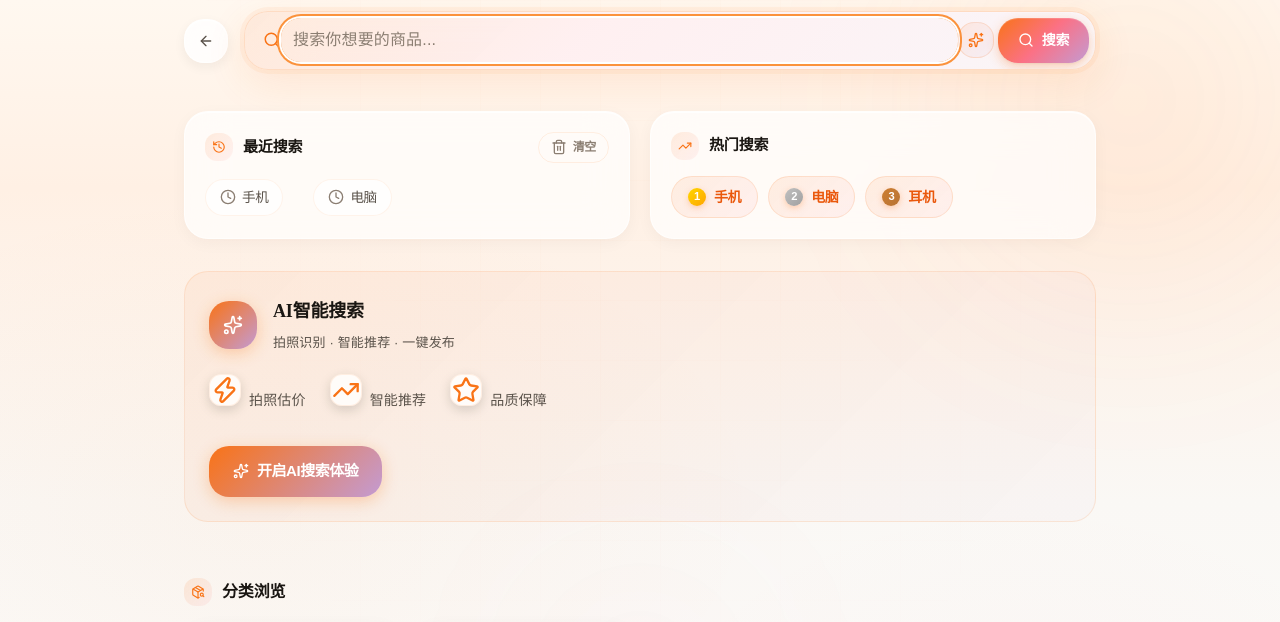
Test: SearchPage › shows loading state during search
Type "手机" into the field with placeholder "搜索你想要的商品...". click: (619, 40)
box: [281,18,958,62]
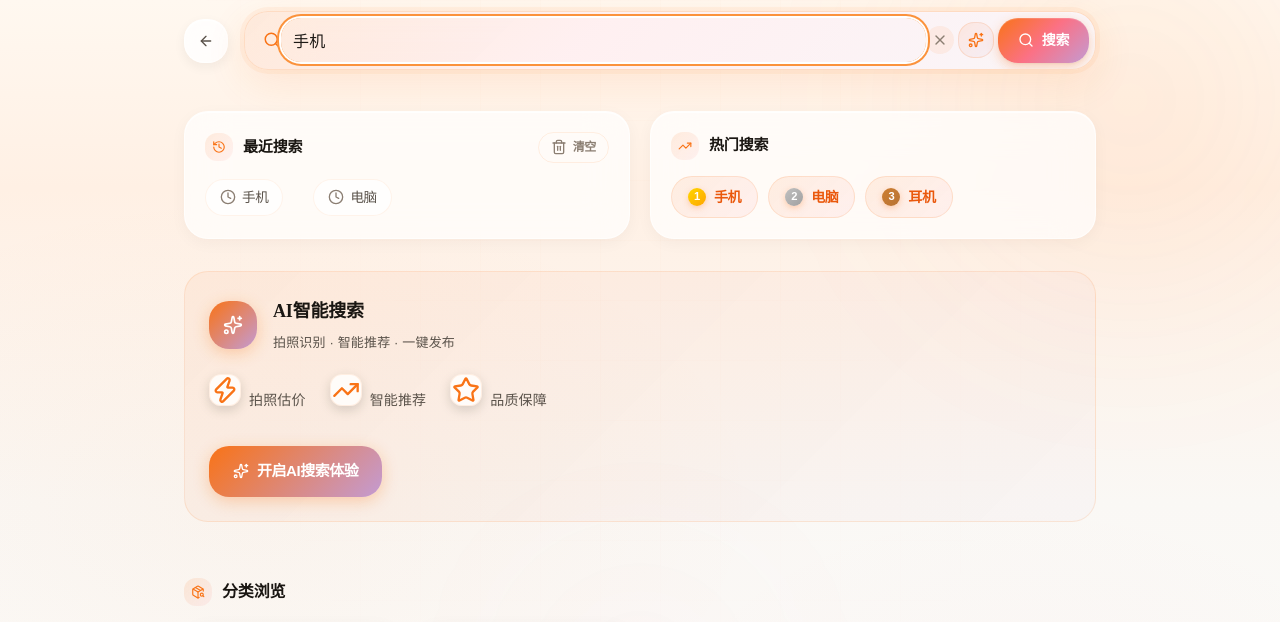
Click the button "搜索". click: click(1043, 40)
box: [998,18,1089,62]
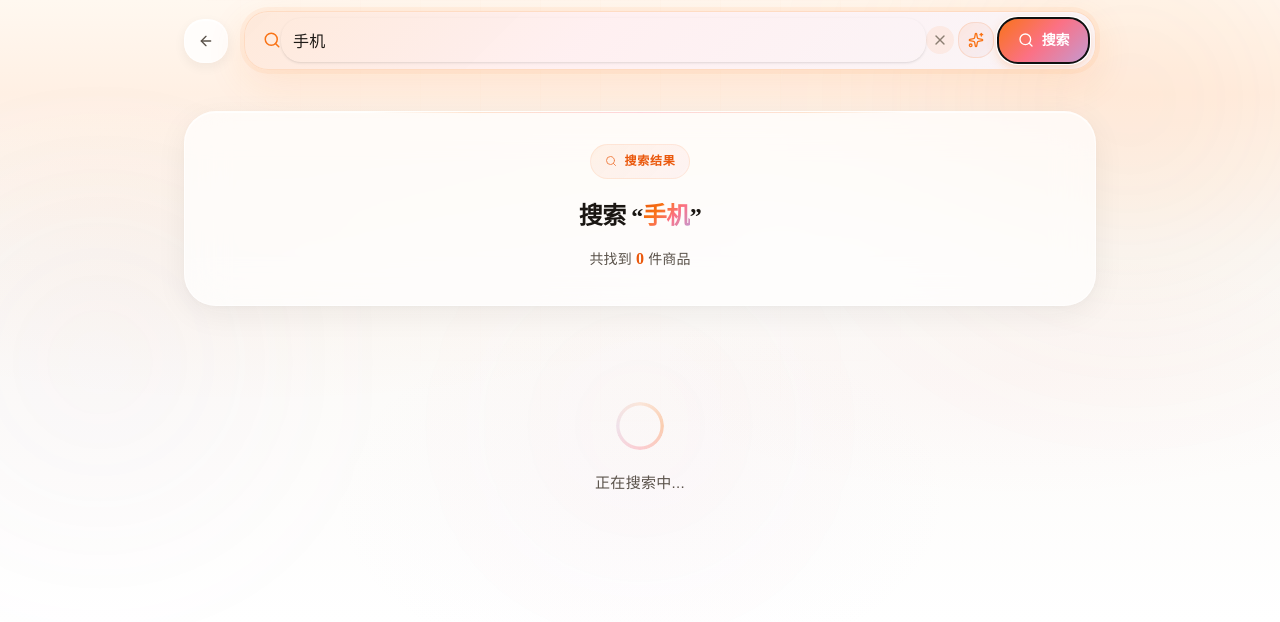
Check: the text "正在搜索中..." is shown, box [595,470,685,496]
